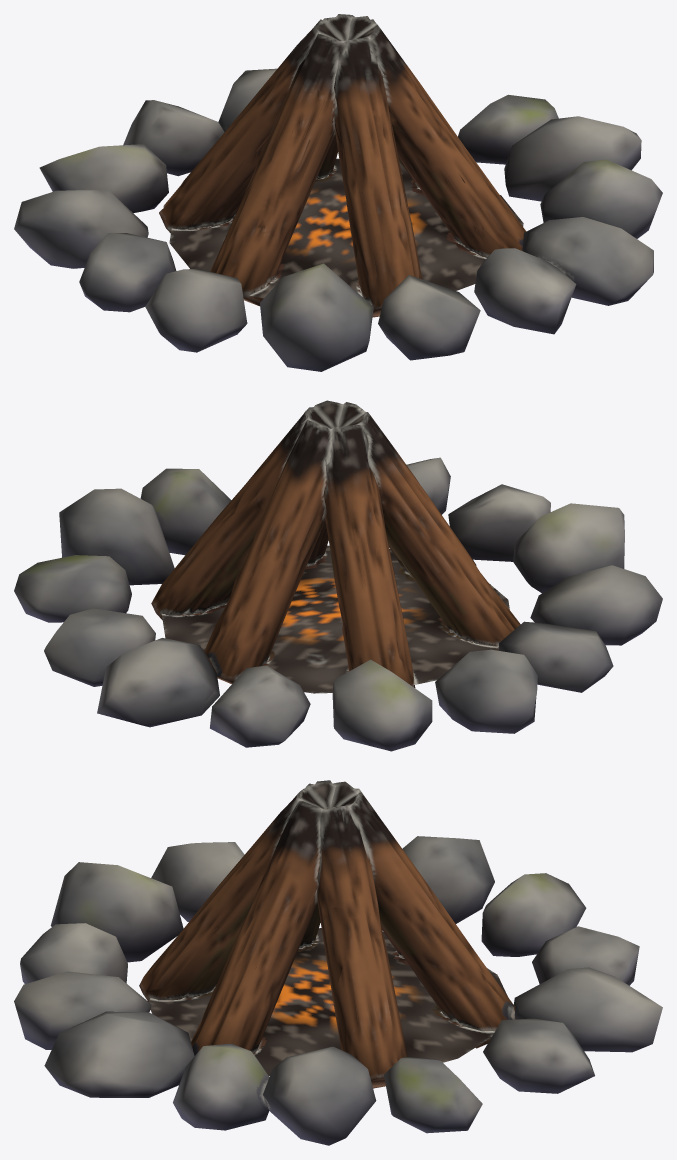
The model's file is campfire.glb.
3 views of the same model, one above another, from view 1: azimuth 30°, elevation 25°; view 2: azimuth 150°, elevation 25°; view 3: azimuth 270°, elevation 25° (orthographic). The views are drawn at different scales.
Parts seen in each view (by area): view 1: campfire; view 2: campfire; view 3: campfire.
Part boxes in pixels (x1,y1,x2,y2): campfire: (14, 14, 662, 371); campfire: (14, 400, 662, 751); campfire: (14, 780, 662, 1145).
Bounding box in the file's own units: 2.22 × 0.8986 × 2.21.
1 material, 1 textured.
